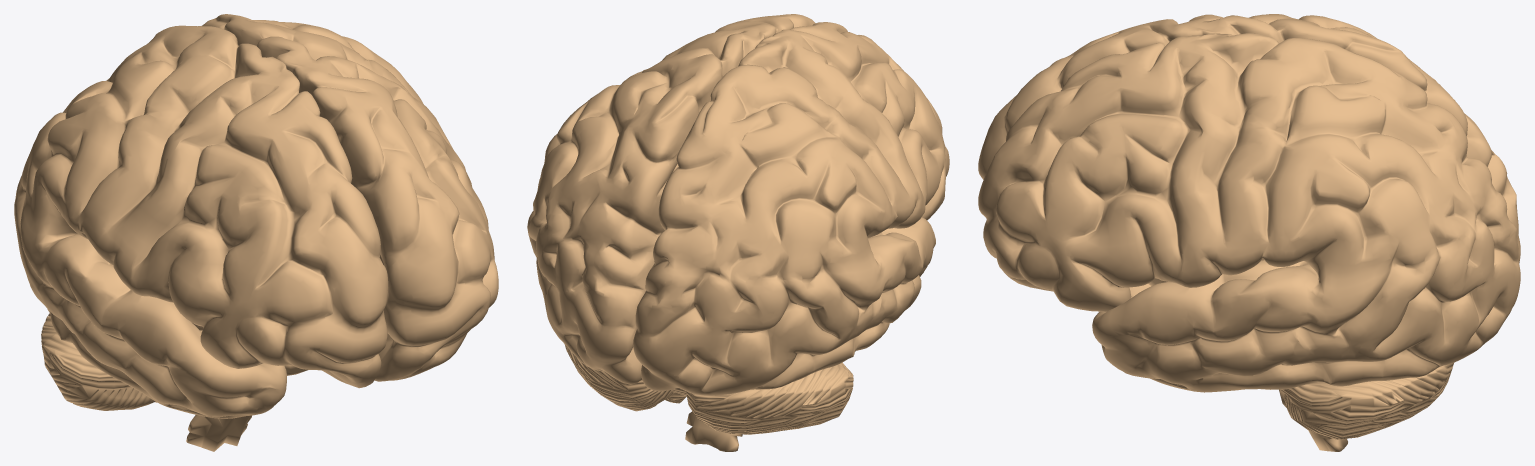
File: brain.glb
3 renders of one model, left to right at view 1: azimuth 30°, elevation 25°; view 2: azimuth 150°, elevation 25°; view 3: azimuth 270°, elevation 25°, orthographic. The views are drawn at different scales.
Parts seen in each view (by area): view 1: brain; view 2: brain; view 3: brain.
Boxes of the visible parts, box(x1,y1,x2,y2) form: brain: box(14, 14, 498, 451); brain: box(527, 14, 949, 451); brain: box(978, 14, 1520, 451).
Bounding box in the file's own units: 1.06 × 1.12 × 1.32.
